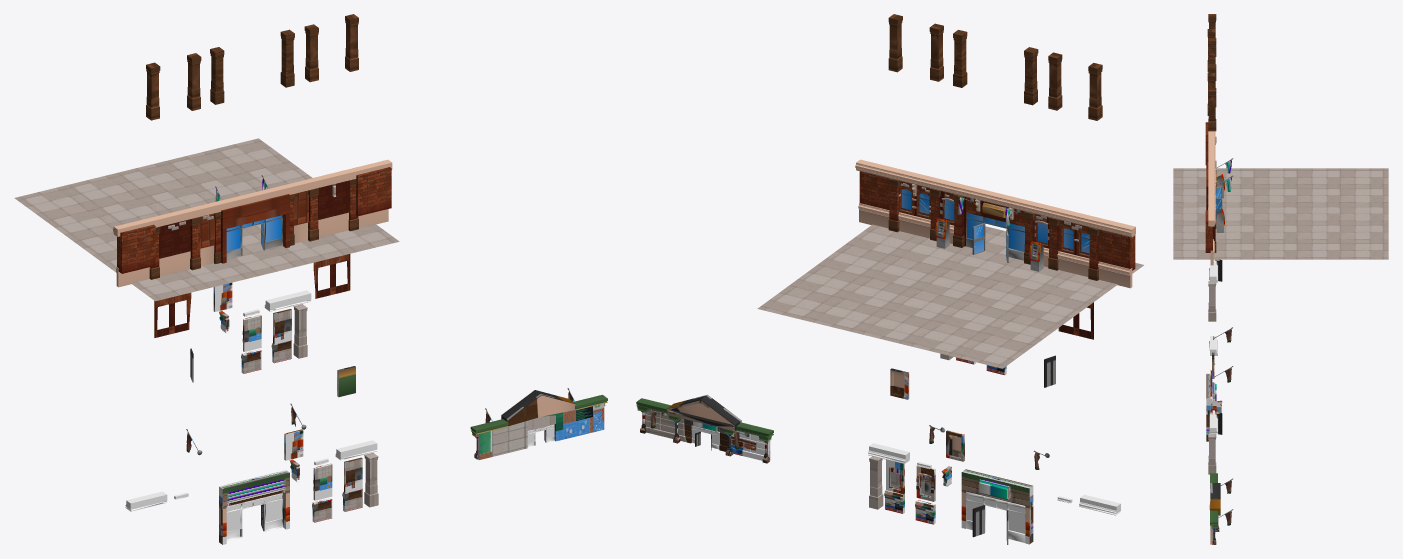
Rendered from BankFrontage_2.fbx.
The picture shows the model from 3 angles, left to right: view 1: azimuth 30°, elevation 25°; view 2: azimuth 150°, elevation 25°; view 3: azimuth 270°, elevation 25°; orthographic projection. The views are drawn at different scales.
Visible parts, largest first — view 1: Plane, BankFront, Plain Wall, OUTSIDEWALL_RECESSED_PANEL_Skirting.006, DOOR FRAME, OUTSIDEWALL_RECESSED_PANEL_ARCHED_Window.001, DOOR FRAME.001, Plane.001, OUTSIDEWALL_RECESSED_PANEL_Pillar.004, OUTSIDEWALL_RECESSED_PANEL_Pillar.006, OUTSIDEWALL_RECESSED_PANEL_Pillar.007, OUTSIDEWALL_RECESSED_PANEL_Skirting.002 (+9 smaller); view 2: Plane, OUTSIDEWALL_RECESSED_PANEL_Skirting.006, BankFront, Plain Wall, DOOR FRAME, OUTSIDEWALL_RECESSED_PANEL_ARCHED_Window.001, OUTSIDEWALL_RECESSED_PANEL_Pillar.007, OUTSIDEWALL_RECESSED_PANEL_Pillar.004, OUTSIDEWALL_RECESSED_PANEL_Pillar.006, OUTSIDEWALL_RECESSED_PANEL_Skirting.007, OUTSIDEWALL_RECESSED_PANEL_Skirting.002, OUTSIDEWALL_RECESSED_PANEL_Pillar.002 (+10 smaller); view 3: Plane, OUTSIDEWALL_RECESSED_PANEL_Skirting.006, OUTSIDEWALL_RECESSED_PANEL_Pillar.007, Plain Wall, BankFront, OUTSIDEWALL_RECESSED_PANEL_Pillar.004, DOOR FRAME, Skirting.002, OUTSIDEWALL_RECESSED_PANEL_Pillar, OUTSIDEWALL_RECESSED_PANEL_Pillar.005, OUTSIDEWALL_RECESSED_PANEL_Pillar.006.
Part boxes in pixels (bbox=[...]): Plane: bbox=[14, 138, 399, 301]; BankFront: bbox=[477, 390, 604, 459]; Plain Wall: bbox=[117, 167, 391, 273]; OUTSIDEWALL_RECESSED_PANEL_Skirting.006: bbox=[113, 159, 392, 236]; DOOR FRAME: bbox=[219, 470, 289, 544]; OUTSIDEWALL_RECESSED_PANEL_ARCHED_Window.001: bbox=[159, 180, 349, 258]; DOOR FRAME.001: bbox=[221, 194, 289, 263]; Plane.001: bbox=[154, 254, 350, 337]; OUTSIDEWALL_RECESSED_PANEL_Pillar.004: bbox=[210, 29, 294, 104]; OUTSIDEWALL_RECESSED_PANEL_Pillar.006: bbox=[187, 24, 318, 110]; OUTSIDEWALL_RECESSED_PANEL_Pillar.007: bbox=[146, 14, 358, 120]; OUTSIDEWALL_RECESSED_PANEL_Skirting.002: bbox=[159, 212, 348, 275]; Plane: bbox=[757, 224, 1143, 368]; OUTSIDEWALL_RECESSED_PANEL_Skirting.006: bbox=[855, 159, 1135, 237]; BankFront: bbox=[645, 394, 770, 460]; Plain Wall: bbox=[859, 171, 1135, 270]; DOOR FRAME: bbox=[961, 469, 1033, 544]; OUTSIDEWALL_RECESSED_PANEL_ARCHED_Window.001: bbox=[899, 181, 1089, 258]; OUTSIDEWALL_RECESSED_PANEL_Pillar.007: bbox=[888, 14, 1102, 120]; OUTSIDEWALL_RECESSED_PANEL_Pillar.004: bbox=[953, 30, 1038, 105]; OUTSIDEWALL_RECESSED_PANEL_Pillar.006: bbox=[929, 23, 1062, 110]; OUTSIDEWALL_RECESSED_PANEL_Skirting.007: bbox=[858, 203, 1132, 288]; OUTSIDEWALL_RECESSED_PANEL_Skirting.002: bbox=[898, 212, 1089, 276]; OUTSIDEWALL_RECESSED_PANEL_Pillar.002: bbox=[888, 178, 1099, 280]; Plane: bbox=[1173, 168, 1388, 259]; OUTSIDEWALL_RECESSED_PANEL_Skirting.006: bbox=[1208, 118, 1215, 226]; OUTSIDEWALL_RECESSED_PANEL_Pillar.007: bbox=[1208, 14, 1216, 131]; Plain Wall: bbox=[1205, 122, 1212, 252]; BankFront: bbox=[1209, 483, 1220, 544]; OUTSIDEWALL_RECESSED_PANEL_Pillar.004: bbox=[1208, 38, 1216, 106]; DOOR FRAME: bbox=[1206, 373, 1212, 441]; Skirting.002: bbox=[1209, 336, 1217, 433]; OUTSIDEWALL_RECESSED_PANEL_Pillar: bbox=[1208, 434, 1216, 474]; OUTSIDEWALL_RECESSED_PANEL_Pillar.005: bbox=[1208, 281, 1216, 321]; OUTSIDEWALL_RECESSED_PANEL_Pillar.006: bbox=[1207, 29, 1215, 115].
Size of the model in its own units: 10944 by 10549 by 5448.
